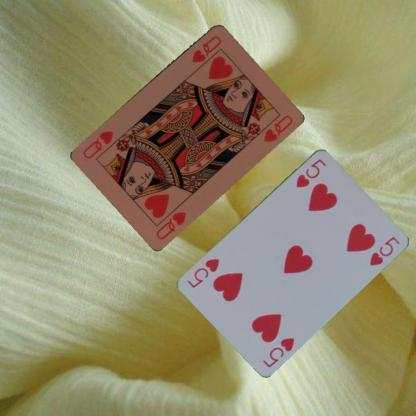5h: (293, 155, 328, 189), (260, 335, 296, 368)
Qh: (153, 209, 188, 241), (189, 32, 222, 64)
